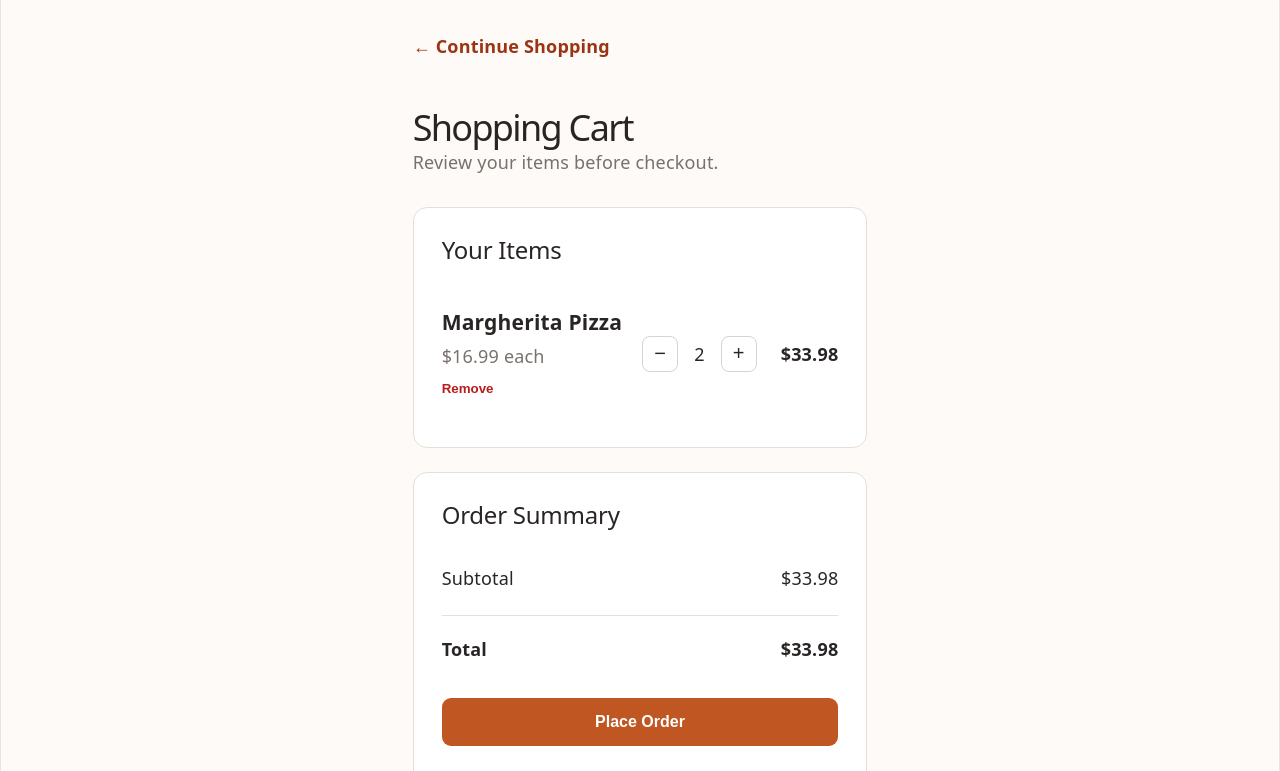
Test: Checkout › displays an error when checkout fails
Expected: the heading "Margherita Pizza" is shown, [442,309,622,335]
What coordinates should you click on to do the following:
click the button "Place Order"
I would click on:
 (640, 722)
Its box is [442,698,838,746].
(page scrolled)
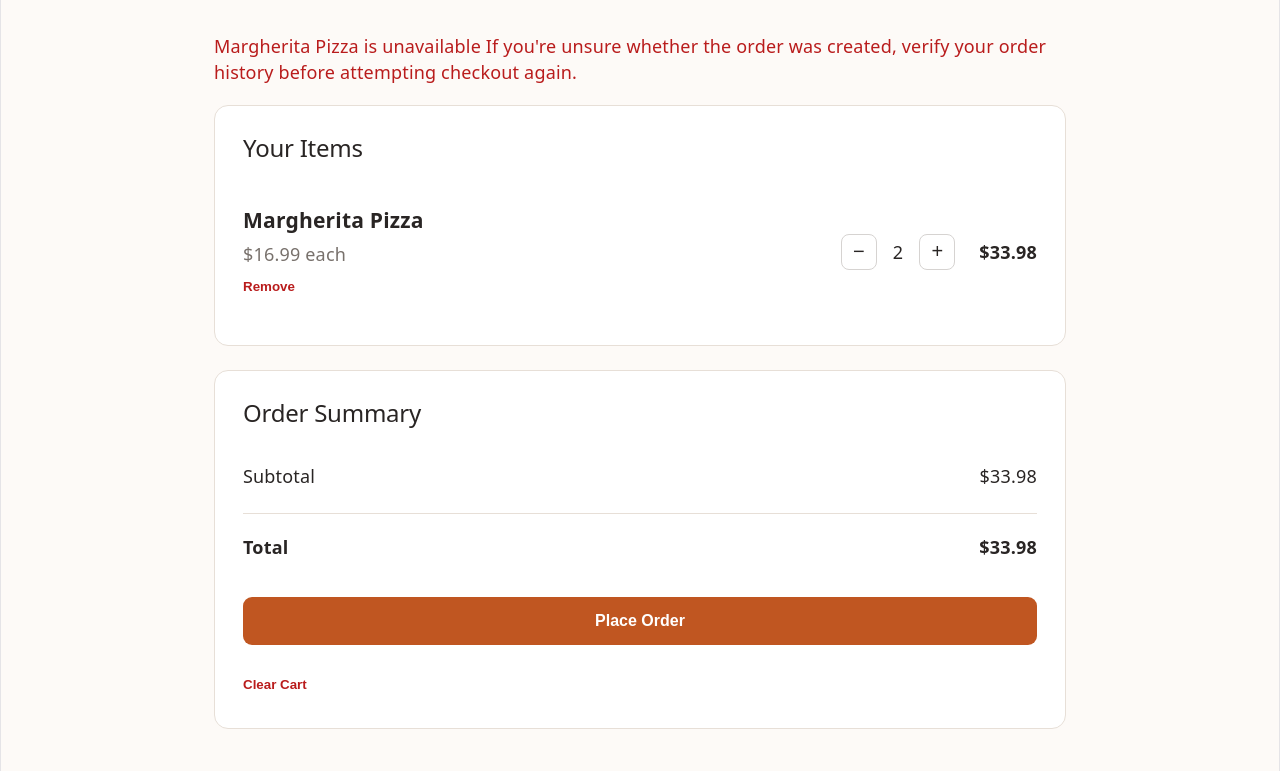
Expected: the heading "Margherita Pizza" is shown, [243,207,424,233]
Now the message shows "Margherita Pizza is unavailable", box [214,34,1046,84]
